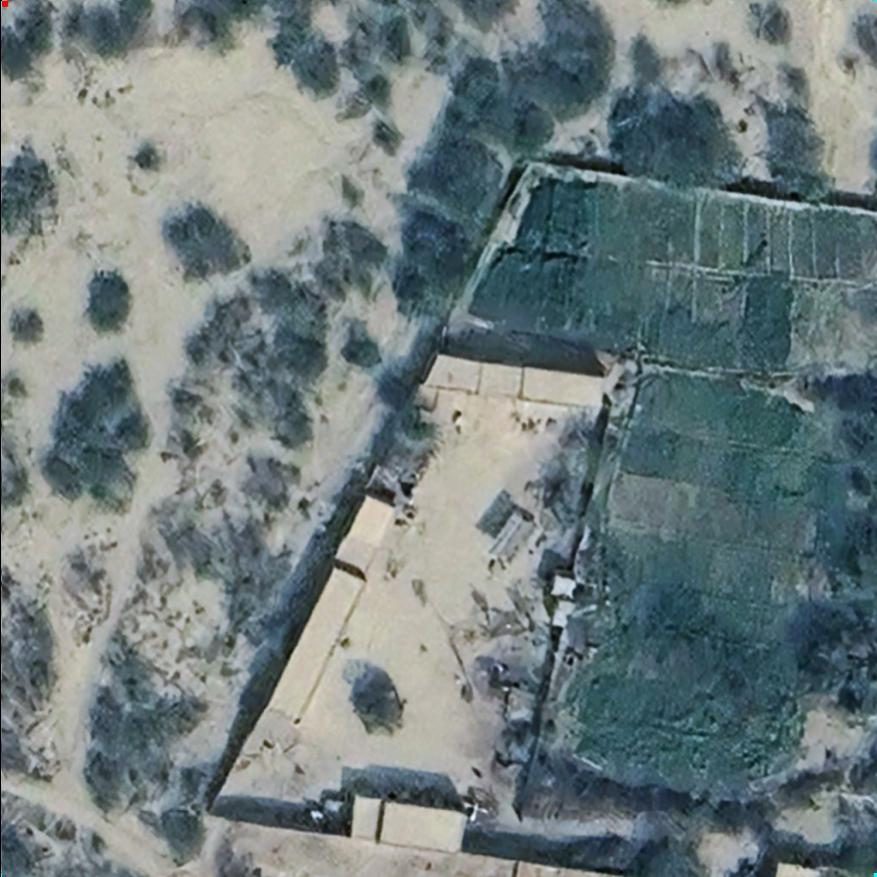Solarpanel: (483, 513, 534, 566)
